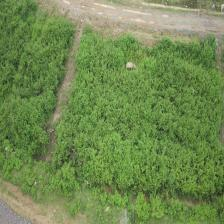vegetation: (56, 27, 223, 193), (1, 2, 78, 158)
